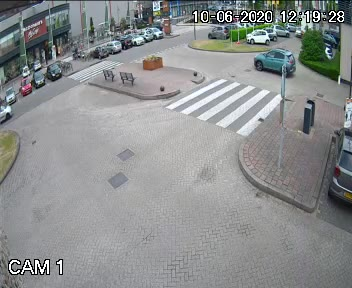car: (250, 44, 292, 77)
